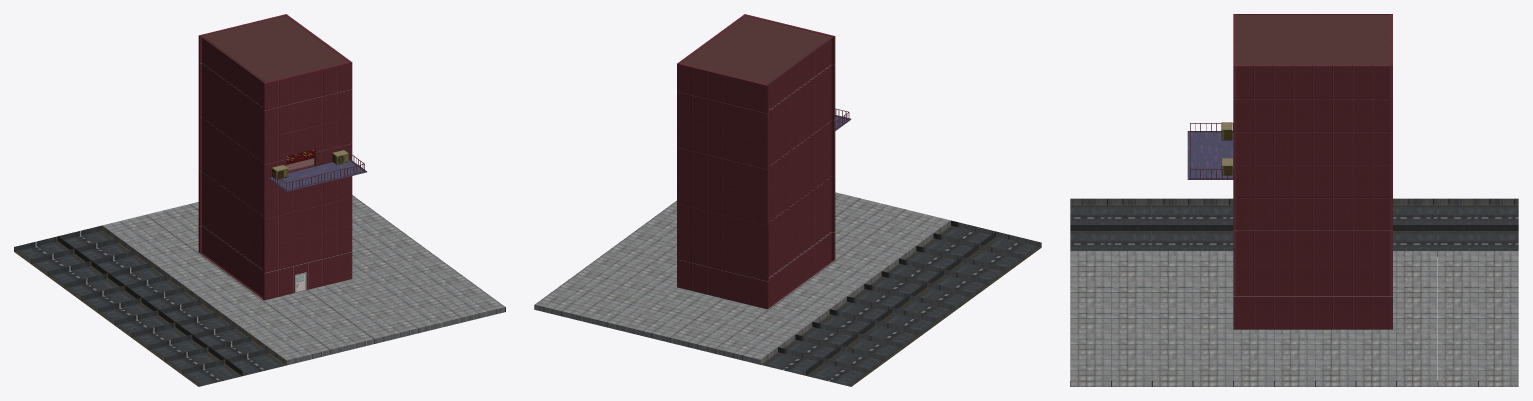
The model's file is Piso.obj.
The picture shows the model from 3 angles, left to right: view 1: azimuth 30°, elevation 25°; view 2: azimuth 150°, elevation 25°; view 3: azimuth 270°, elevation 25°; orthographic projection. The views are drawn at different scales.
Parts seen in each view (by area): view 1: Wall.003_Plane.007, Wall.001_Plane.005, Plane.079_Plane.042, Plane.001_Plane.003, Plane.052_Plane.064, Wall.002_Plane.006, Plane.032_Plane.037, Plane.043_Plane.048, Plane.040_Plane.045, Plane.027_Plane.032, Plane.048_Plane.053, Plane.035_Plane.040 (+50 smaller); view 2: Wall.002_Plane.006, Wall.001_Plane.005, Plane.079_Plane.042, Wall.003_Plane.007, Plane.073_Plane.019, Plane.069_Plane.081, Plane.066_Plane.078, Plane.070_Plane.082, Plane.061_Plane.073, Plane.060_Plane.072, Plane.078_Plane.041, Plane.057_Plane.069 (+45 smaller); view 3: Wall_Plane.004, Plane.079_Plane.042, Plane.001_Plane.003, Plane.022_Plane.027, Plane.029_Plane.034, Plane.025_Plane.030, Plane.024_Plane.029, Plane.023_Plane.028, Plane.028_Plane.033, Plane.027_Plane.032, Plane.026_Plane.031, Plane.072_Plane.084 (+50 smaller).
Boxes of the visible parts, bbox=[...] form: Wall.003_Plane.007: bbox=[263, 61, 352, 300]; Wall.001_Plane.005: bbox=[200, 36, 264, 299]; Plane.079_Plane.042: bbox=[201, 16, 347, 82]; Plane.001_Plane.003: bbox=[268, 158, 366, 191]; Plane.052_Plane.064: bbox=[181, 359, 242, 386]; Wall.002_Plane.006: bbox=[198, 14, 286, 252]; Plane.032_Plane.037: bbox=[270, 337, 330, 365]; Plane.043_Plane.048: bbox=[358, 316, 418, 343]; Plane.040_Plane.045: bbox=[314, 327, 374, 354]; Plane.027_Plane.032: bbox=[445, 295, 505, 322]; Plane.048_Plane.053: bbox=[402, 305, 461, 332]; Plane.035_Plane.040: bbox=[226, 348, 286, 375]; Wall.002_Plane.006: bbox=[677, 63, 768, 309]; Wall.001_Plane.005: bbox=[767, 37, 833, 307]; Plane.079_Plane.042: bbox=[681, 16, 832, 84]; Wall.003_Plane.007: bbox=[744, 14, 835, 260]; Plane.073_Plane.019: bbox=[806, 358, 868, 386]; Plane.069_Plane.081: bbox=[715, 336, 777, 364]; Plane.066_Plane.078: bbox=[669, 325, 731, 353]; Plane.070_Plane.082: bbox=[534, 292, 596, 320]; Plane.061_Plane.073: bbox=[624, 314, 686, 342]; Plane.060_Plane.072: bbox=[579, 303, 641, 331]; Plane.078_Plane.041: bbox=[761, 347, 822, 375]; Plane.057_Plane.069: bbox=[962, 244, 1024, 272]; Wall_Plane.004: bbox=[1234, 64, 1391, 329]; Plane.079_Plane.042: bbox=[1236, 15, 1389, 64]; Plane.001_Plane.003: bbox=[1187, 131, 1233, 179]; Plane.022_Plane.027: bbox=[1355, 355, 1396, 386]; Plane.029_Plane.034: bbox=[1192, 355, 1233, 386]; Plane.025_Plane.030: bbox=[1274, 355, 1314, 386]; Plane.024_Plane.029: bbox=[1233, 355, 1273, 386]; Plane.023_Plane.028: bbox=[1315, 355, 1355, 386]; Plane.028_Plane.033: bbox=[1152, 355, 1192, 386]; Plane.027_Plane.032: bbox=[1070, 355, 1110, 386]; Plane.026_Plane.031: bbox=[1111, 355, 1151, 386]; Plane.072_Plane.084: bbox=[1437, 355, 1477, 386].
Size of the model in its own units: 68.23 by 47.08 by 70.98.
Materials: 106 (105 with a texture image).
